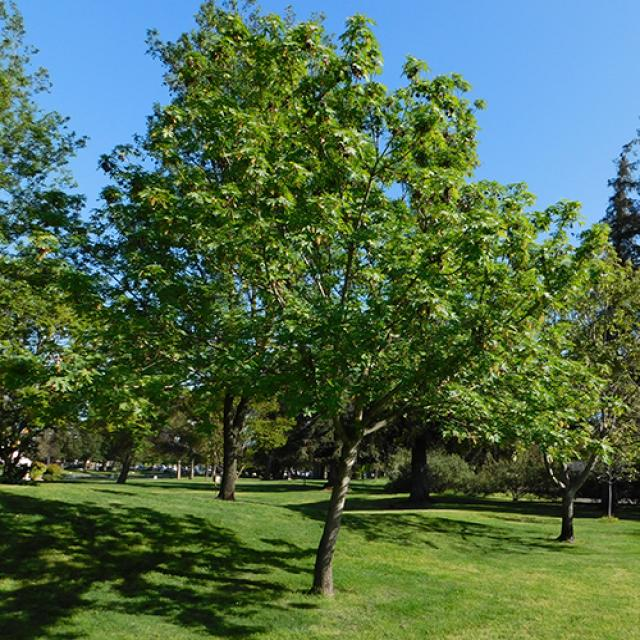Acer macrophyllum: (155, 18, 596, 598)
